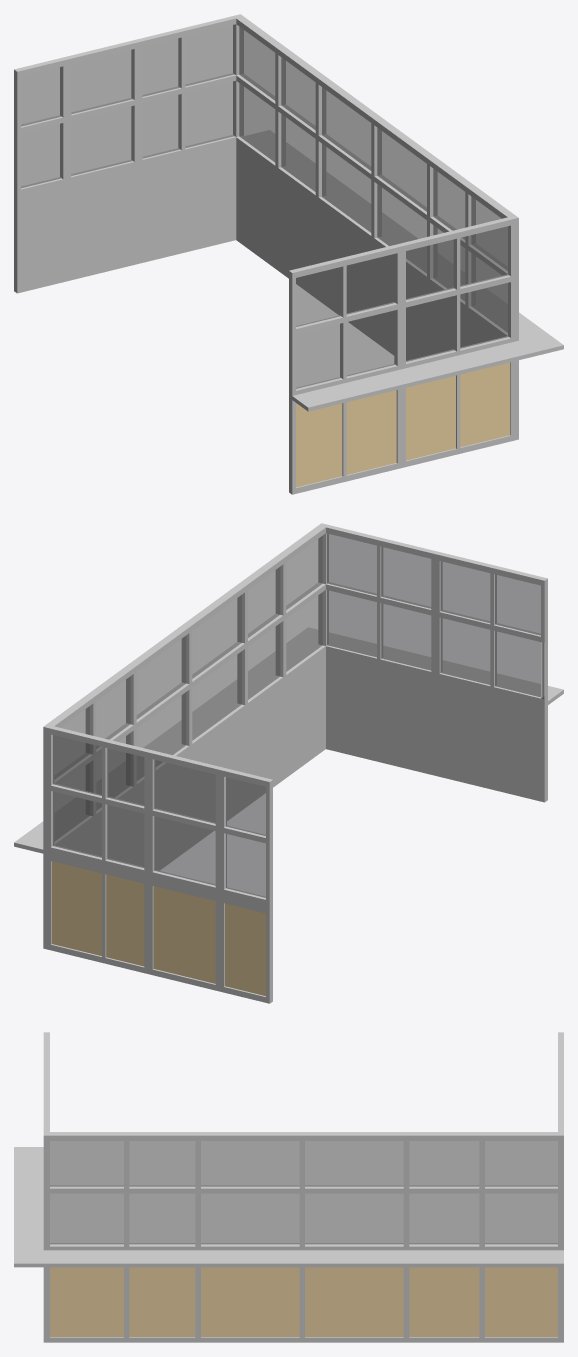
Rendered from pecera.dae.
3 views of the same model, one above another, from view 1: azimuth 30°, elevation 25°; view 2: azimuth 150°, elevation 25°; view 3: azimuth 270°, elevation 25° (orthographic). The views are drawn at different scales.
Parts seen in each view (by area): view 1: Pecera; view 2: Pecera; view 3: Pecera.
Boxes of the visible parts, <box> form: Pecera: <box>14,14,563,494</box>; Pecera: <box>14,523,563,1003</box>; Pecera: <box>14,1032,563,1342</box>.
Size of the model in its own units: 2.9 by 5.77 by 2.4.
